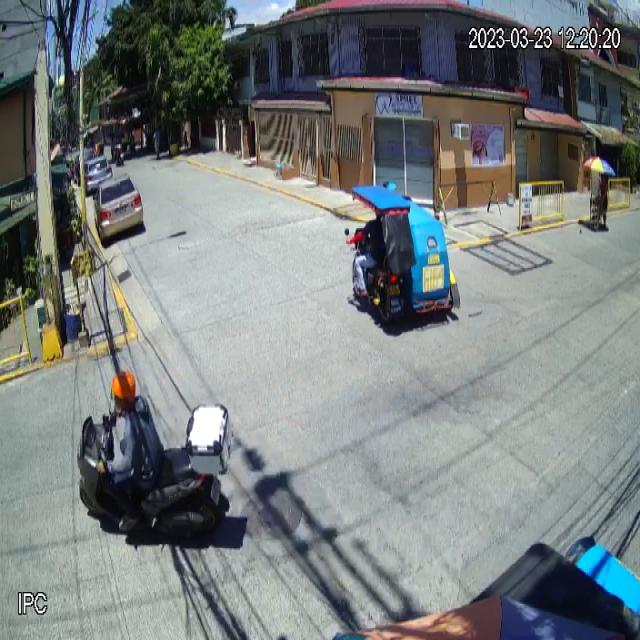Car: (93, 173, 143, 244)
Motorcycle: (76, 402, 235, 540)
Tricycle: (344, 185, 461, 330)
